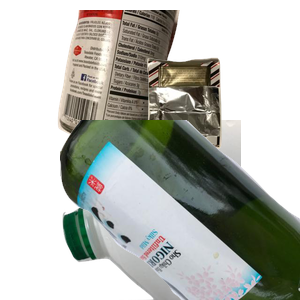glass: (60, 120, 300, 300)
metal: (55, 10, 227, 149)
plastic: (60, 120, 300, 300)
trash: (144, 55, 300, 197)
